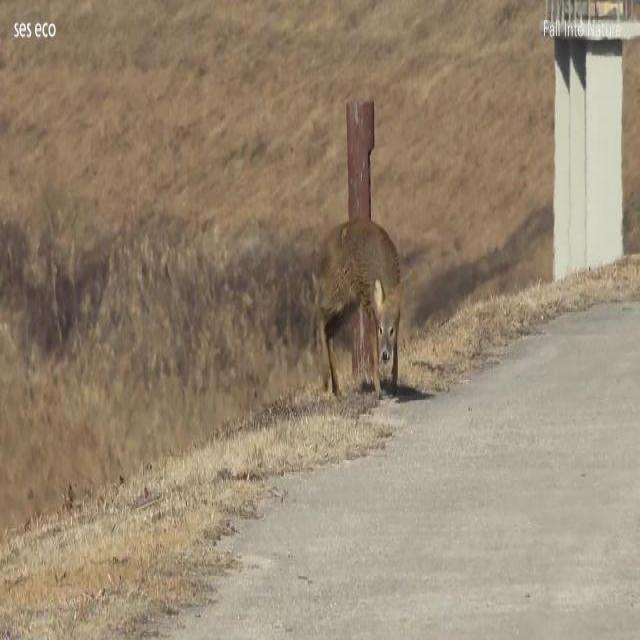deer: (314, 216, 404, 397)
